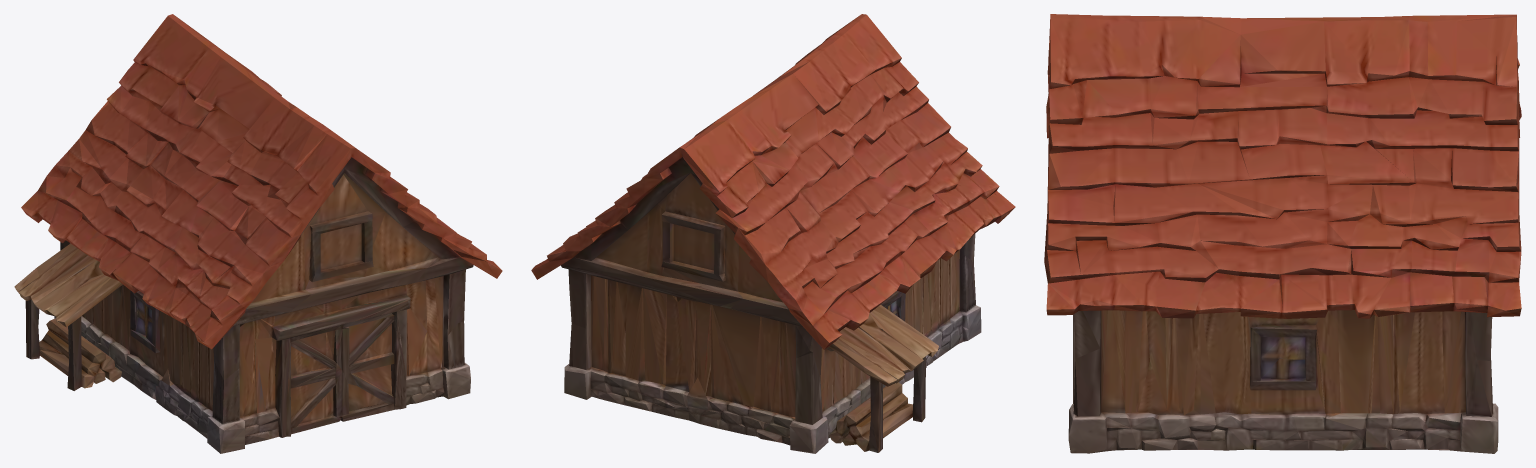
The model's file is oc_barn_weathered.glb.
The picture shows the model from 3 angles, left to right: view 1: azimuth 30°, elevation 25°; view 2: azimuth 150°, elevation 25°; view 3: azimuth 270°, elevation 25°; orthographic projection. The views are drawn at different scales.
Parts seen in each view (by area): view 1: W_barn_weathered; view 2: W_barn_weathered; view 3: W_barn_weathered.
Part boxes in pixels (box(x1,y1,x2,y2)): W_barn_weathered: box(14, 14, 502, 453); W_barn_weathered: box(531, 14, 1015, 453); W_barn_weathered: box(1044, 14, 1521, 453).
Bounding box in the file's own units: 11.98 × 9.68 × 11.57.
Materials: 1 (1 with a texture image).
